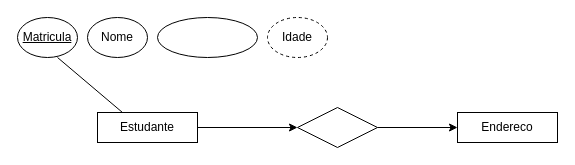
This 575x165 diagram has some shape labels left out. The shapes that lost their labels are listed below. From the top down, each one's centre as x and y in pixels, then its label:
point 207,37: Data de Nascimento
point 337,127: Mora
